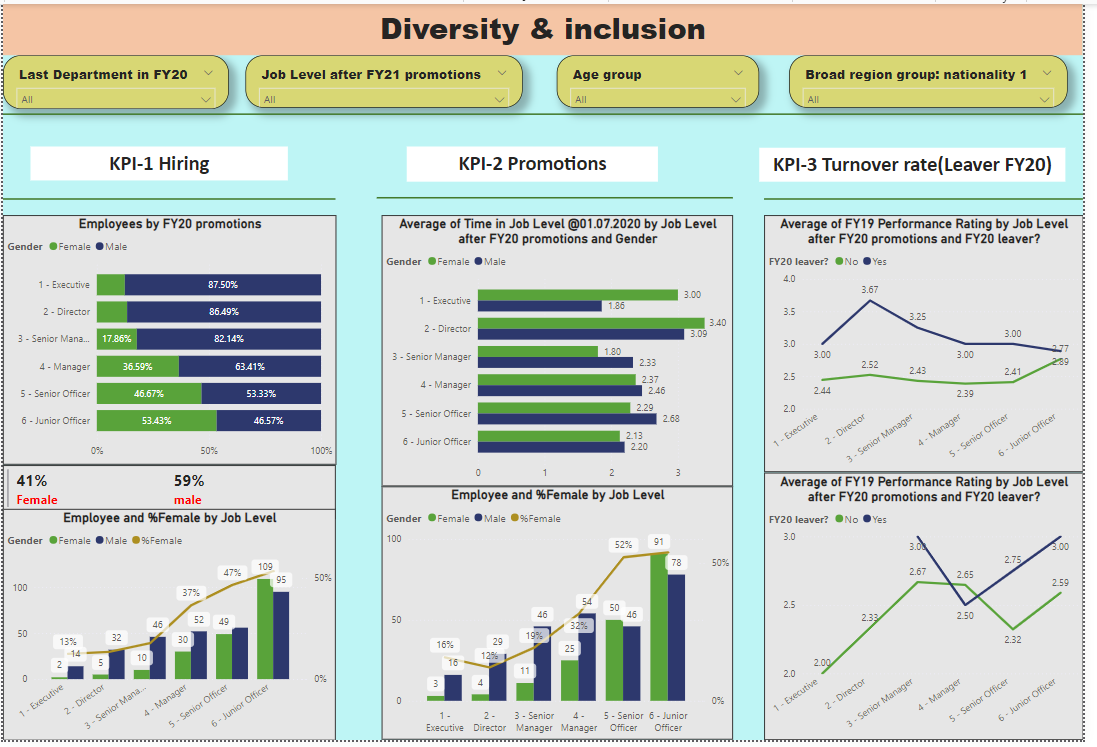

Layout of this report page (visuals, bound fields, positions):
{"tool":"powerbi","page":{"name":"Page 1","canvas":[1400,954],"ordinal":0},"visuals":[{"type":"slicer","fields":{"Values":["Pharma Group AG.Last Department in FY20"]},"box":[0,66.4,293.2,69.6],"z":0},{"type":"slicer","fields":{"Values":["Pharma Group AG.Job Level after FY21 promotions"]},"box":[314.2,66.4,359.6,68],"z":1000},{"type":"slicer","fields":{"Values":["Pharma Group AG.Age group"]},"box":[717.5,66.4,262.4,68],"z":2000},{"type":"slicer","fields":{"Values":["Pharma Group AG.Broad region group: nationality 1"]},"box":[1018.8,66.4,361.2,68],"z":3000},{"type":"textbox","box":[0,0,1399.4,66.4],"z":4000},{"type":"hundredPercentStackedBarChart","title":"Employees by FY20 promotions","fields":{"Y":["CountNonNull(Pharma Group AG.Employee ID)"],"Category":["Pharma Group AG.Job Level after FY20 promotions"],"Series":["Pharma Group AG.Gender"]},"box":[0,274.4,431.6,322.9],"z":5000},{"type":"multiRowCard","fields":{"Values":["Pharma Group AG.%Female","Pharma Group AG.%male"]},"box":[0,597.7,430.8,69.6],"z":6000},{"type":"lineClusteredColumnComboChart","title":"Employee and %Female by Job Level","fields":{"Category":["Pharma Group AG.Job Level after FY20 promotions"],"Y":["CountNonNull(Pharma Group AG.Employee ID)"],"Series":["Pharma Group AG.Gender"],"Y2":["Pharma Group AG.%Female"]},"box":[0,654.4,430.8,299.6],"z":7000},{"type":"lineClusteredColumnComboChart","title":"Employee and %Female by Job Level","fields":{"Y":["CountNonNull(Pharma Group AG.Employee ID)"],"Series":["Pharma Group AG.Gender"],"Y2":["Pharma Group AG.%Female"],"Category":["Pharma Group AG.Job Level after FY21 promotions"]},"box":[490.2,625.7,455.1,327.9],"z":8000},{"type":"clusteredBarChart","fields":{"Category":["Pharma Group AG.Job Level after FY20 promotions"],"Y":["Avg(Pharma Group AG.Time in Job Level @01.07.2020)"],"Series":["Pharma Group AG.Gender"]},"box":[490.2,274.4,455.1,351.3],"z":9000},{"type":"lineChart","fields":{"Category":["Pharma Group AG.Job Level after FY20 promotions"],"Y":["Avg(Pharma Group AG.FY19 Performance Rating)"],"Series":["Pharma Group AG.FY20 leaver?"]},"box":[987.1,607.3,413.2,346.3],"z":10000},{"type":"lineChart","fields":{"Category":["Pharma Group AG.Job Level after FY20 promotions"],"Y":["Avg(Pharma Group AG.FY19 Performance Rating)"],"Series":["Pharma Group AG.FY20 leaver?"]},"box":[987.1,274.4,413.2,332.9],"z":11000},{"type":"shape","box":[0,135.5,1400.3,13.4],"z":12000},{"type":"textbox","box":[35.6,184.6,333.7,43.7],"z":13000},{"type":"textbox","box":[523.2,184.6,325.6,45.4],"z":14000},{"type":"textbox","box":[979.9,186.3,396.8,43.7],"z":15000},{"type":"shape","box":[0,230,430.8,45.4],"z":16000},{"type":"shape","box":[484.3,228.4,461.6,45.4],"z":17000},{"type":"shape","box":[986.4,230,413,45.4],"z":18000}]}

Visuals, with their boxes in screenshot pixels (x1, y1, x2, y2), scaled from the page's 1400x954 canvas onto the 1097x747 screenshot:
slicer - Pharma Group AG.Last Department in FY20: 0 52 230 106
slicer - Pharma Group AG.Job Level after FY21 promotions: 246 52 528 105
slicer - Pharma Group AG.Age group: 562 52 768 105
slicer - Pharma Group AG.Broad region group: nationality 1: 798 52 1081 105
textbox: 0 0 1096 52
"Employees by FY20 promotions" hundredPercentStackedBarChart: 0 215 338 468
multiRowCard - Pharma Group AG.%Female x Pharma Group AG.%male: 0 468 338 523
"Employee and %Female by Job Level" lineClusteredColumnComboChart: 0 512 338 746
"Employee and %Female by Job Level" lineClusteredColumnComboChart: 384 490 741 746
clusteredBarChart - Pharma Group AG.Job Level after FY20 promotions x Avg(Pharma Group AG.Time in Job Level @01.07.2020): 384 215 741 490
lineChart - Pharma Group AG.Job Level after FY20 promotions x Avg(Pharma Group AG.FY19 Performance Rating): 773 476 1096 746
lineChart - Pharma Group AG.Job Level after FY20 promotions x Avg(Pharma Group AG.FY19 Performance Rating): 773 215 1096 476
shape: 0 106 1096 117
textbox: 28 145 289 179
textbox: 410 145 665 180
textbox: 768 146 1079 180
shape: 0 180 338 216
shape: 379 179 741 214
shape: 773 180 1096 216
